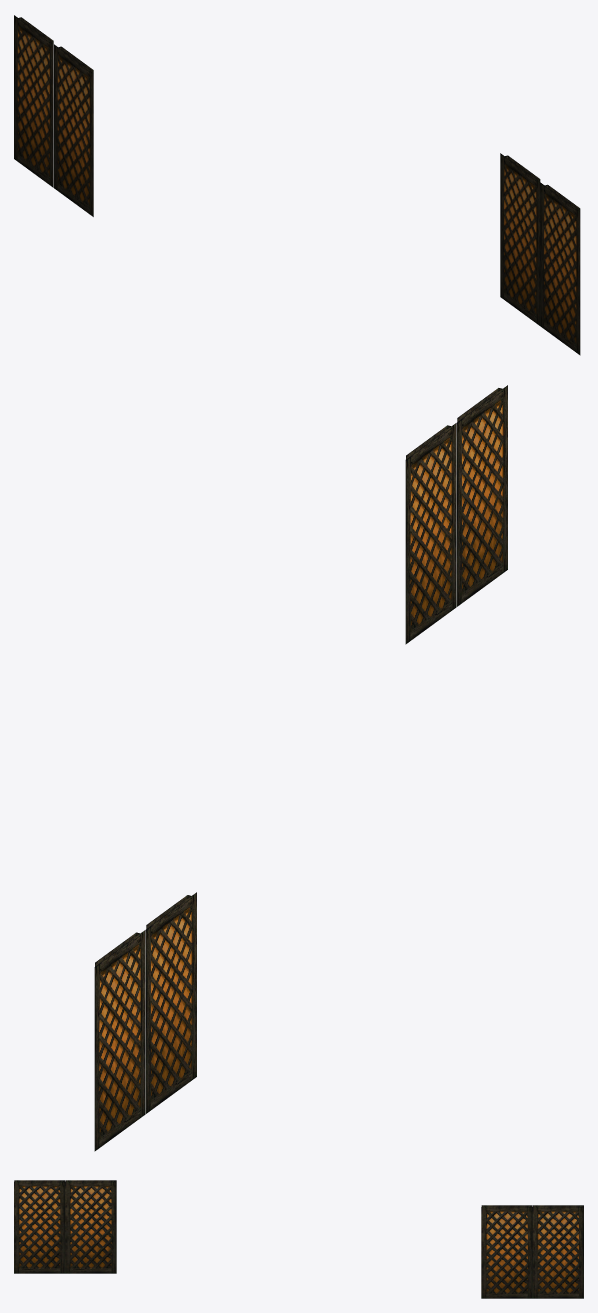
Rendered from LAKETOWN_EXTERIOR_PS_LT_WINDOW_LONG_LOD1_43.fbx.
3 renders of one model, top to bottom at view 1: azimuth 30°, elevation 25°; view 2: azimuth 150°, elevation 25°; view 3: azimuth 270°, elevation 25°, orthographic. The views are drawn at different scales.
Parts seen in each view (by area): view 1: LAKETOWN_EXTERIOR_PS_LT_WINDOW_LONG_LOD1_43; view 2: LAKETOWN_EXTERIOR_PS_LT_WINDOW_LONG_LOD1_43; view 3: LAKETOWN_EXTERIOR_PS_LT_WINDOW_LONG_LOD1_43.
Boxes of the visible parts, bbox=[...] form: LAKETOWN_EXTERIOR_PS_LT_WINDOW_LONG_LOD1_43: bbox=[14, 15, 580, 355]; LAKETOWN_EXTERIOR_PS_LT_WINDOW_LONG_LOD1_43: bbox=[94, 385, 507, 1151]; LAKETOWN_EXTERIOR_PS_LT_WINDOW_LONG_LOD1_43: bbox=[14, 1180, 583, 1298].
Size of the model in its own units: 13549 by 25042 by 83052.
2 materials, 2 textured.
